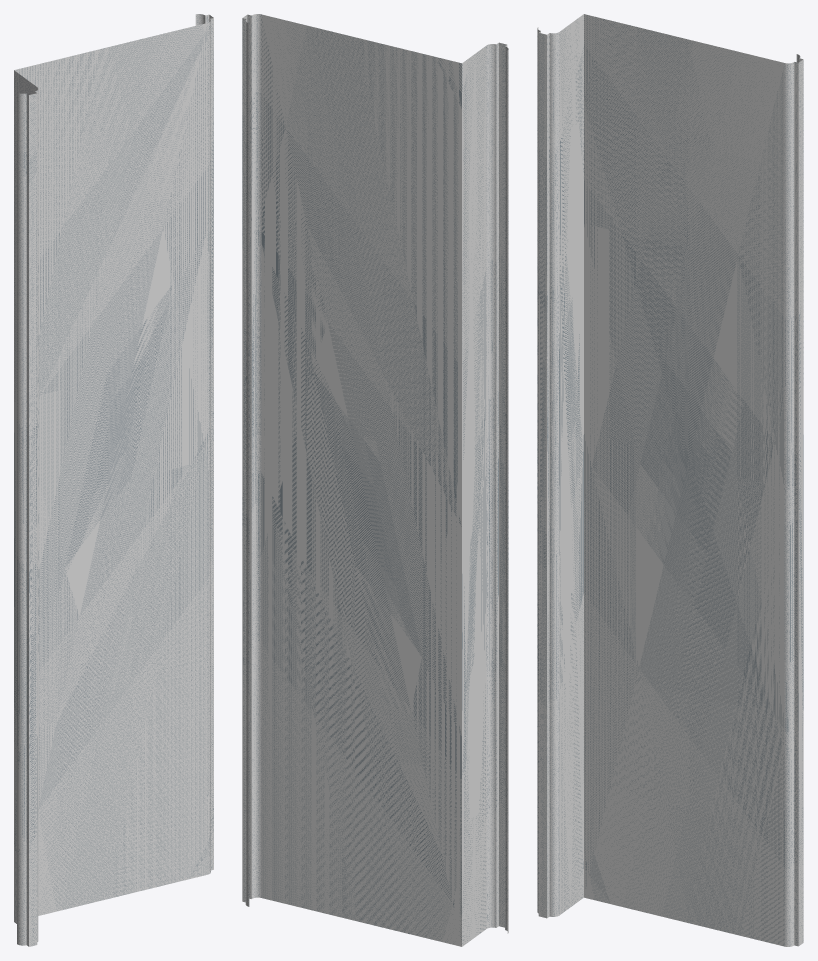
Rendered from PW_CornerFixElem_os_T1_035x110x010x400.dae.
The picture shows the model from 3 angles, left to right: view 1: azimuth 30°, elevation 25°; view 2: azimuth 150°, elevation 25°; view 3: azimuth 330°, elevation 25°; orthographic projection. The views are drawn at different scales.
Parts seen in each view (by area): view 1: group_0; view 2: group_0; view 3: group_0.
Part boxes in pixels (bbox=[...]): group_0: bbox=[14, 14, 213, 946]; group_0: bbox=[242, 14, 508, 946]; group_0: bbox=[537, 14, 803, 946].
Size of the model in its own units: 43.31 by 13.78 by 157.
